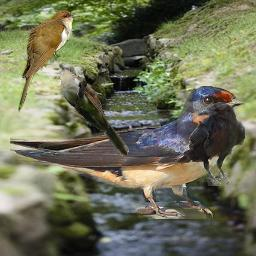Crow: (177, 102, 245, 186)
Cuckoo: (18, 9, 80, 113), (59, 64, 129, 156)
Swallow: (10, 86, 245, 219)
